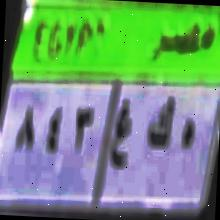3: (71, 96, 99, 157)
4: (42, 99, 68, 162)
8: (14, 102, 40, 160)
ghayn: (107, 84, 137, 176)
haa: (176, 98, 203, 164)
kaaf: (142, 91, 175, 159)
